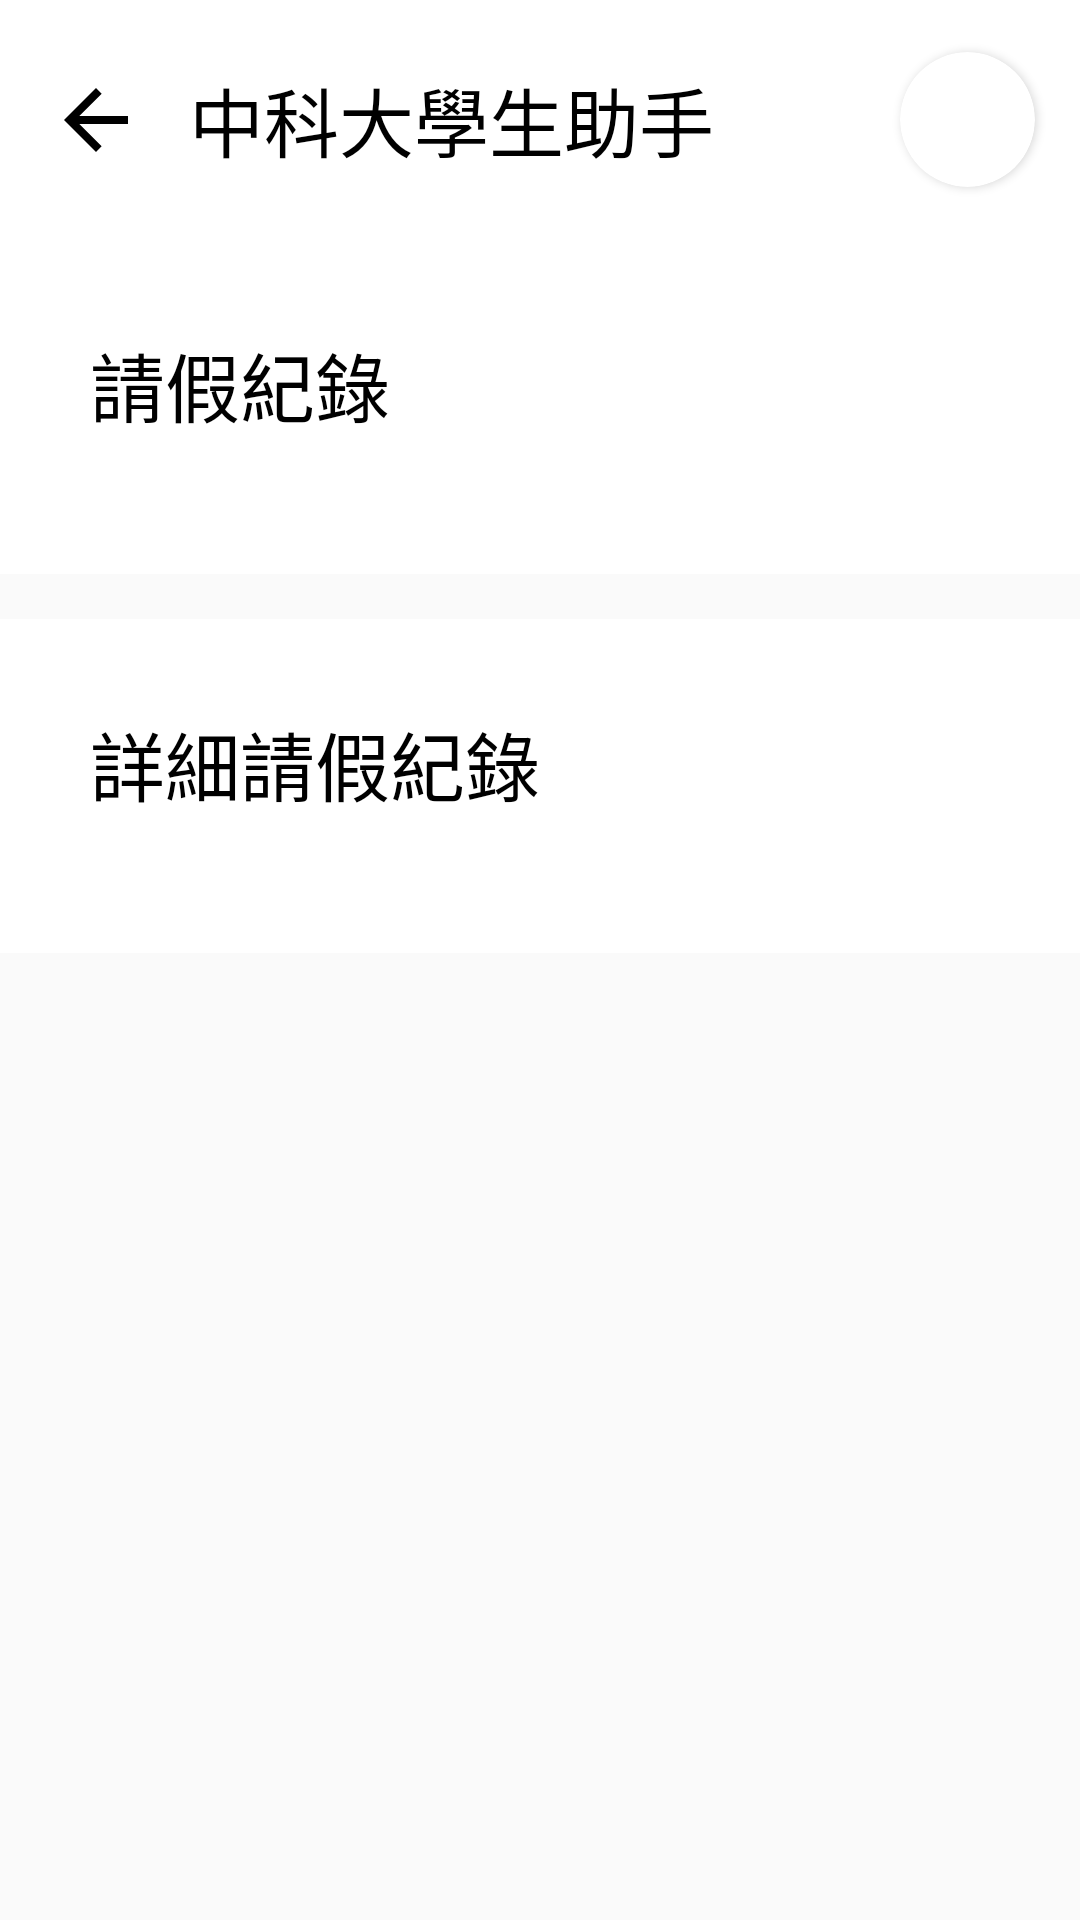

Screen size 1080*1920. Icon name, then its center in pixels as (x=x, y=y):
back: (x=96, y=120)
